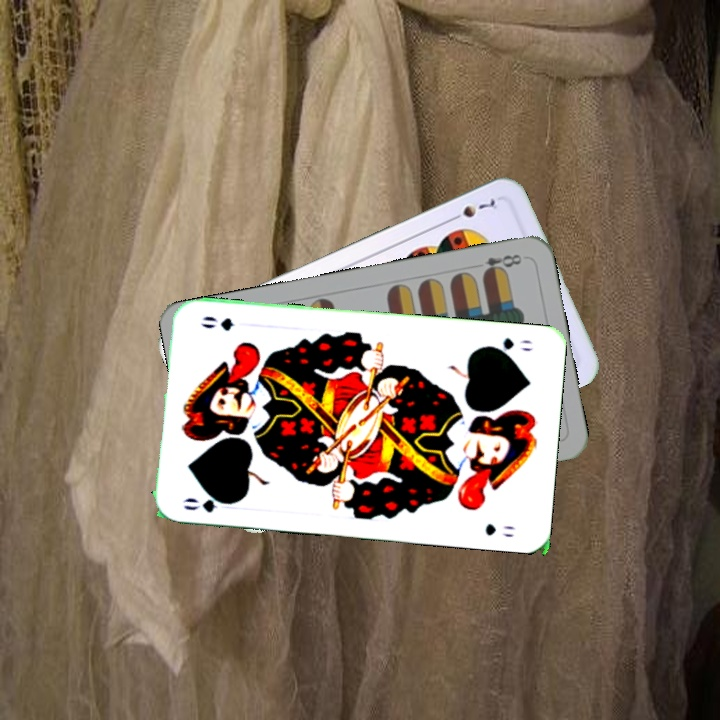E8: (479, 250, 525, 278)
GO: (180, 491, 236, 515), (480, 333, 535, 356)
S7: (445, 195, 499, 224)
